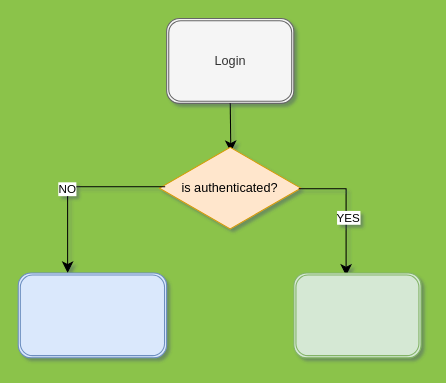
Image size: 446x383. Some labels were removed from this diagram. Each missing label, with the centre of its shape:
"Acces system activities" belongs at point (357, 315).
"Sign up or login with valid credentials" belongs at point (92, 315).
